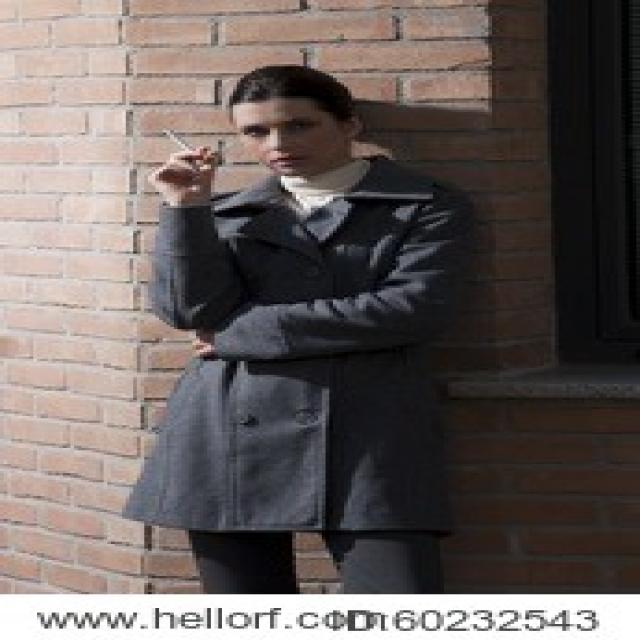smoke: (157, 132, 196, 151)
